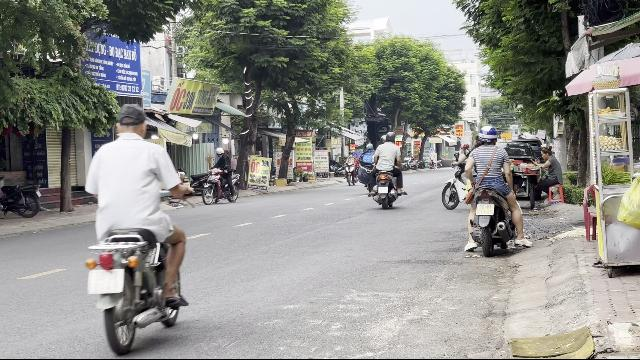helmet: (477, 125, 498, 145)
licenseplate: (87, 268, 125, 294), (476, 205, 494, 215)
motorcyclist: (80, 102, 192, 350), (461, 124, 525, 256)
nohelmet: (112, 102, 148, 138)
